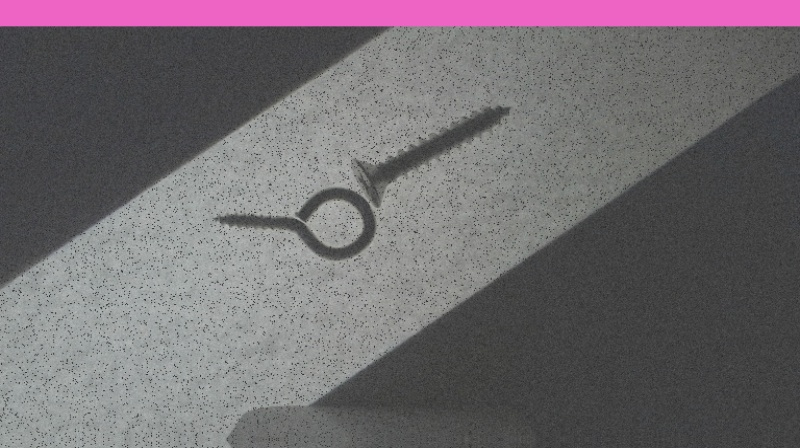O001: (208, 184, 376, 261)
S001: (348, 102, 514, 207)
